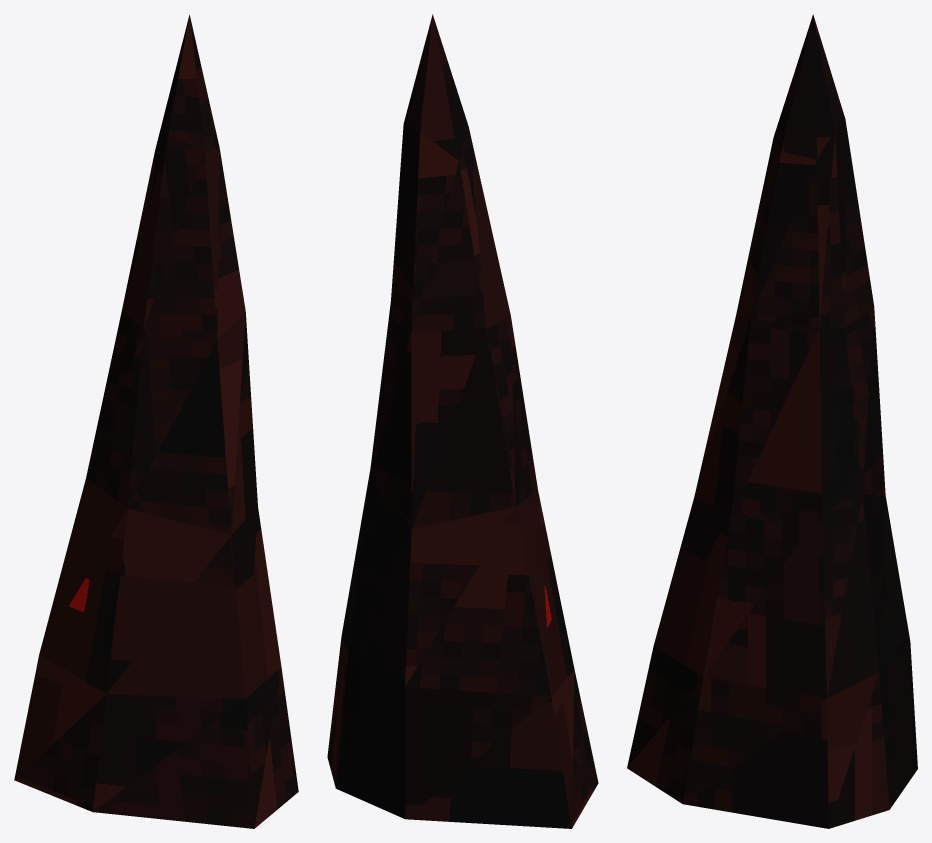
Rendered from spire.glb.
The picture shows the model from 3 angles, left to right: view 1: azimuth 30°, elevation 25°; view 2: azimuth 150°, elevation 25°; view 3: azimuth 270°, elevation 25°; orthographic projection. The views are drawn at different scales.
Parts seen in each view (by area): view 1: Spire; view 2: Spire; view 3: Spire.
Part boxes in pixels (x1=…): Spire: x1=14, y1=15, x2=298, y2=828; Spire: x1=327, y1=14, x2=598, y2=828; Spire: x1=627, y1=14, x2=917, y2=828.
Size of what is drawn, in the model's own units: 0.9185 by 2.6 by 0.8939.
Materials: 1 (1 with a texture image).
